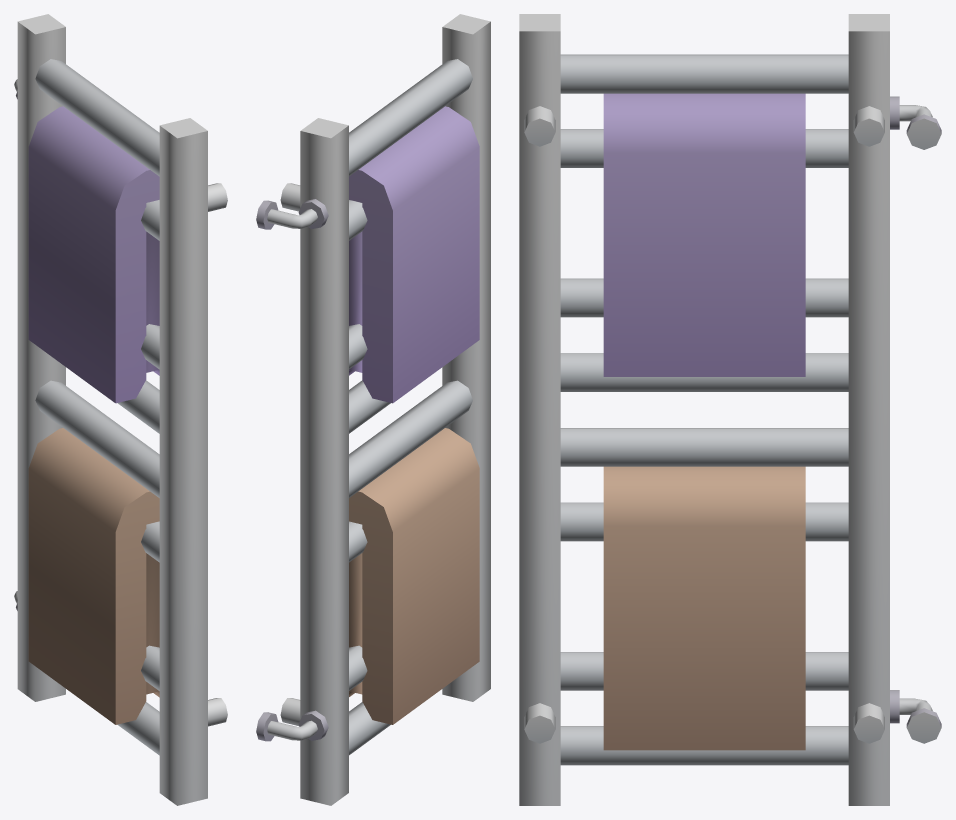
The model's file is radiator-vertical-towels (%wall).glb.
3 views of the same model, side by side, from view 1: azimuth 30°, elevation 25°; view 2: azimuth 150°, elevation 25°; view 3: azimuth 270°, elevation 25° (orthographic). The views are drawn at different scales.
Parts seen in each view (by area): view 1: radiator-vertical-towels (%wall); view 2: radiator-vertical-towels (%wall); view 3: radiator-vertical-towels (%wall).
Part boxes in pixels (x1,y1,x2,y2): radiator-vertical-towels (%wall): (14,14,227,805); radiator-vertical-towels (%wall): (256,14,490,805); radiator-vertical-towels (%wall): (519,14,941,805).
Size of the model in its own units: 0.1327 by 1.04 by 0.5128.
